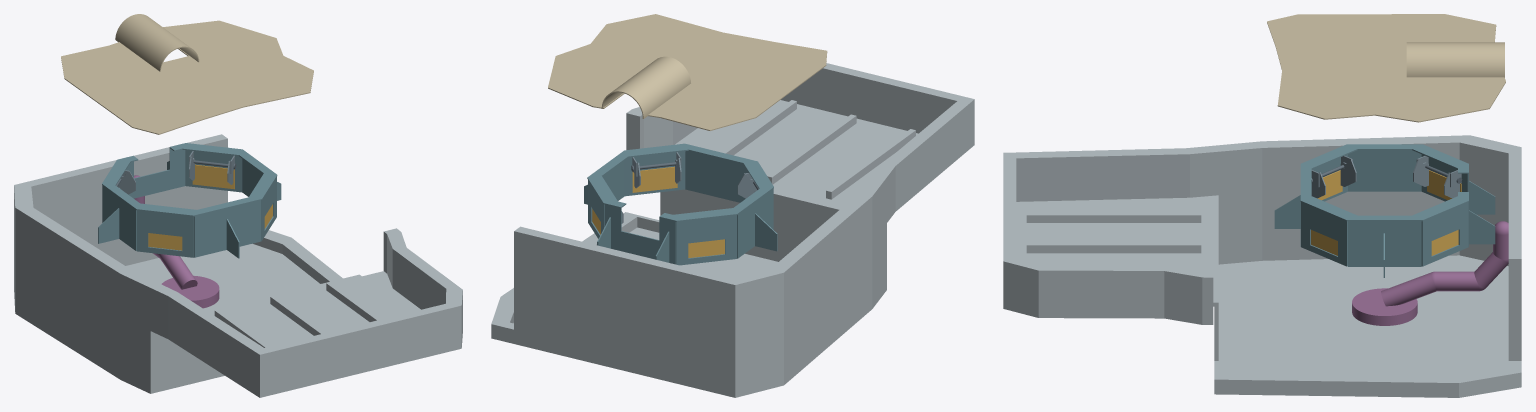
File: radial_pan_exploded.glb
3 views of the same model, side by side, from view 1: azimuth 30°, elevation 25°; view 2: azimuth 150°, elevation 25°; view 3: azimuth 270°, elevation 25° (orthographic). The views are drawn at different scales.
Visible parts, largest first — view 1: radial_pan_exploded (×6); view 2: radial_pan_exploded (×5); view 3: radial_pan_exploded (×6).
Part boxes in pixels (x1,y1,x2,y2): radial_pan_exploded (×6): (14,14,462,397); radial_pan_exploded (×5): (491,14,974,397); radial_pan_exploded (×6): (1003,14,1521,397).
Size of the model in its own units: 0.316 by 0.283 by 0.4747.
